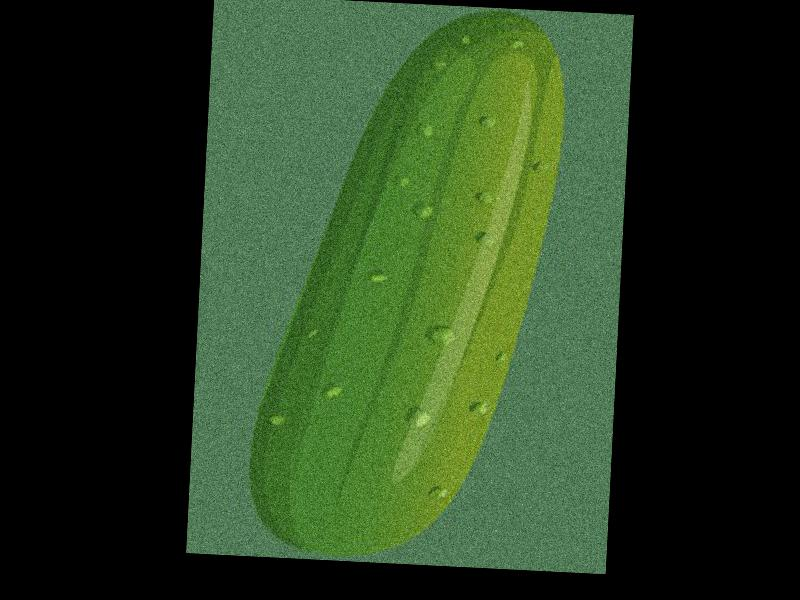Cucumber: (245, 1, 568, 568)
